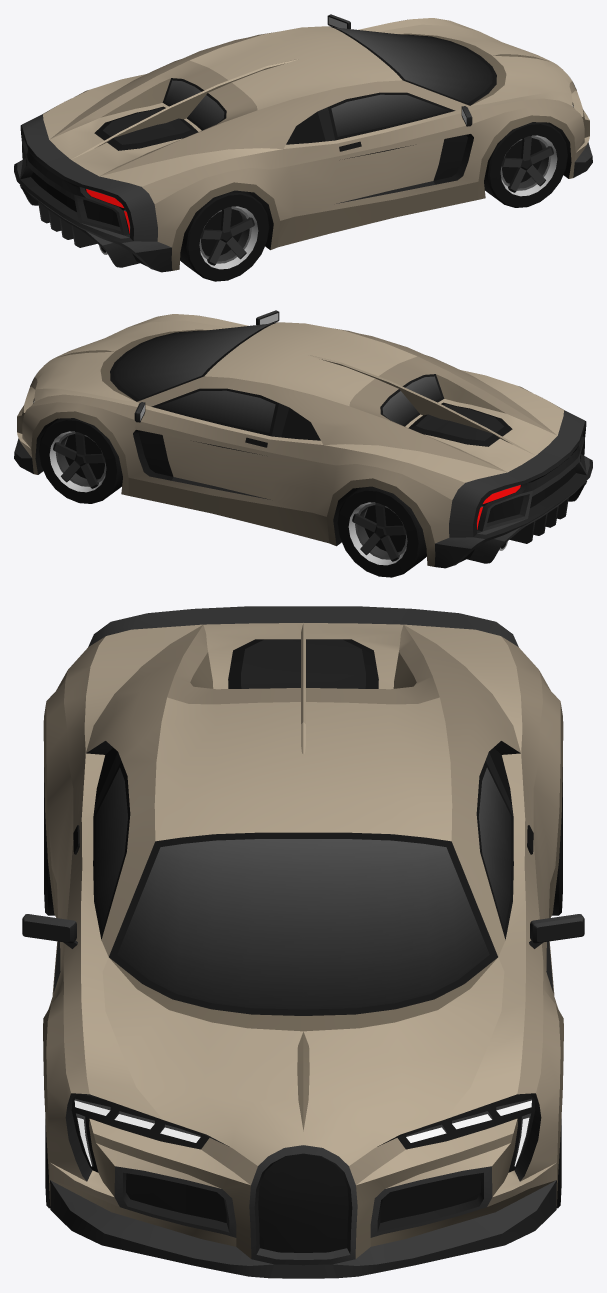
File: Car_108.glb
The picture shows the model from 3 angles, top to bottom: view 1: azimuth 30°, elevation 25°; view 2: azimuth 150°, elevation 25°; view 3: azimuth 270°, elevation 25°; orthographic projection. The views are drawn at different scales.
Visible parts, largest first — view 1: Car_108, wheel_3_Car_108_Wheel_2R, wheel_1_Car_108_Wheel_1R; view 2: Car_108, wheel_2_Car_108_Wheel_2L, wheel_0_Car_108_Wheel_1L; view 3: Car_108.
Part boxes in pixels (x1,y1,x2,y2): Car_108: (14, 14, 592, 272); wheel_3_Car_108_Wheel_2R: (180, 190, 269, 281); wheel_1_Car_108_Wheel_1R: (484, 122, 567, 207); Car_108: (14, 310, 592, 568); wheel_2_Car_108_Wheel_2L: (337, 486, 426, 577); wheel_0_Car_108_Wheel_1L: (39, 418, 122, 503); Car_108: (22, 606, 584, 1278).
Size of the model in its own units: 4.68 by 1.21 by 2.16.
2 materials, 2 textured.
